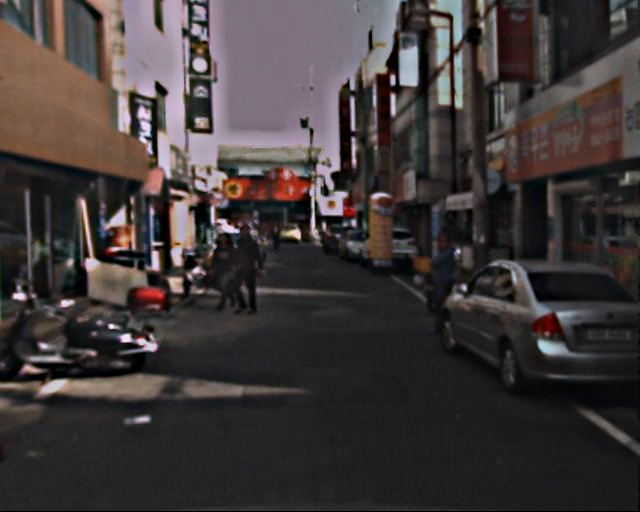person: (425, 228, 469, 341), (230, 218, 264, 316), (208, 226, 239, 308), (271, 222, 284, 252)
